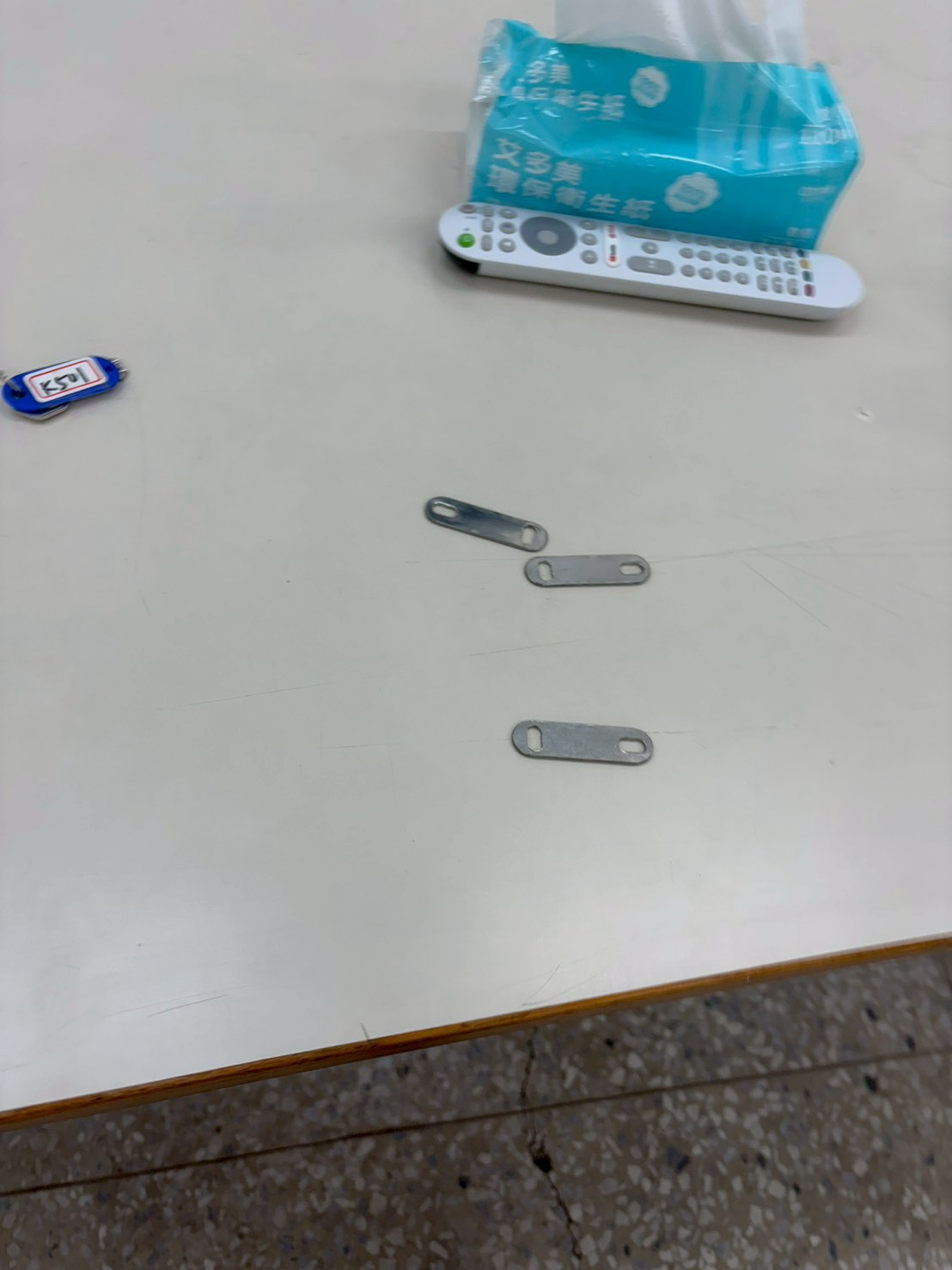Fe: (505, 711, 656, 772), (422, 491, 551, 555), (519, 553, 660, 589)
